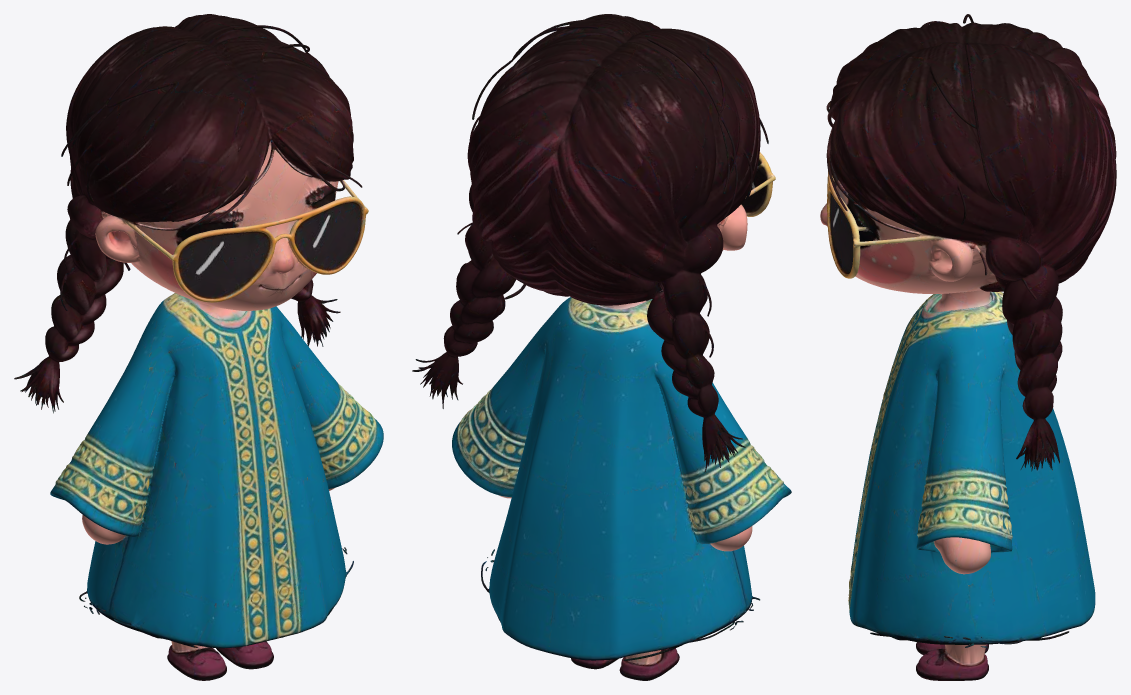
The model's file is hala-cool-glasses.glb.
3 renders of one model, left to right at view 1: azimuth 30°, elevation 25°; view 2: azimuth 150°, elevation 25°; view 3: azimuth 270°, elevation 25°, orthographic.
Size of the model in its own units: 1.02 by 1.9 by 0.8126.
Materials: 1 (1 with a texture image).
